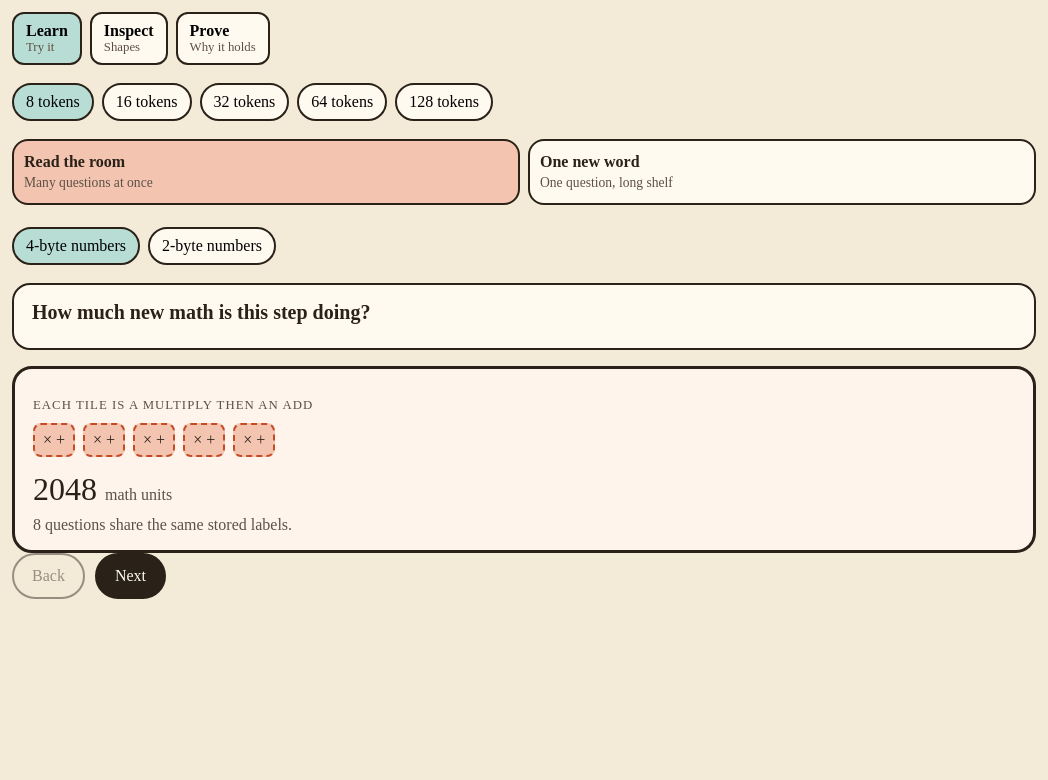
experiment 03 playground › updates math when dtype and job change
This screenshot has width=1048, height=780.
Check: the text "2048" is shown, box [33, 471, 97, 507]
Click the button "One new word One question, long shelf". click: [590, 162]
box: [528, 139, 1036, 205]
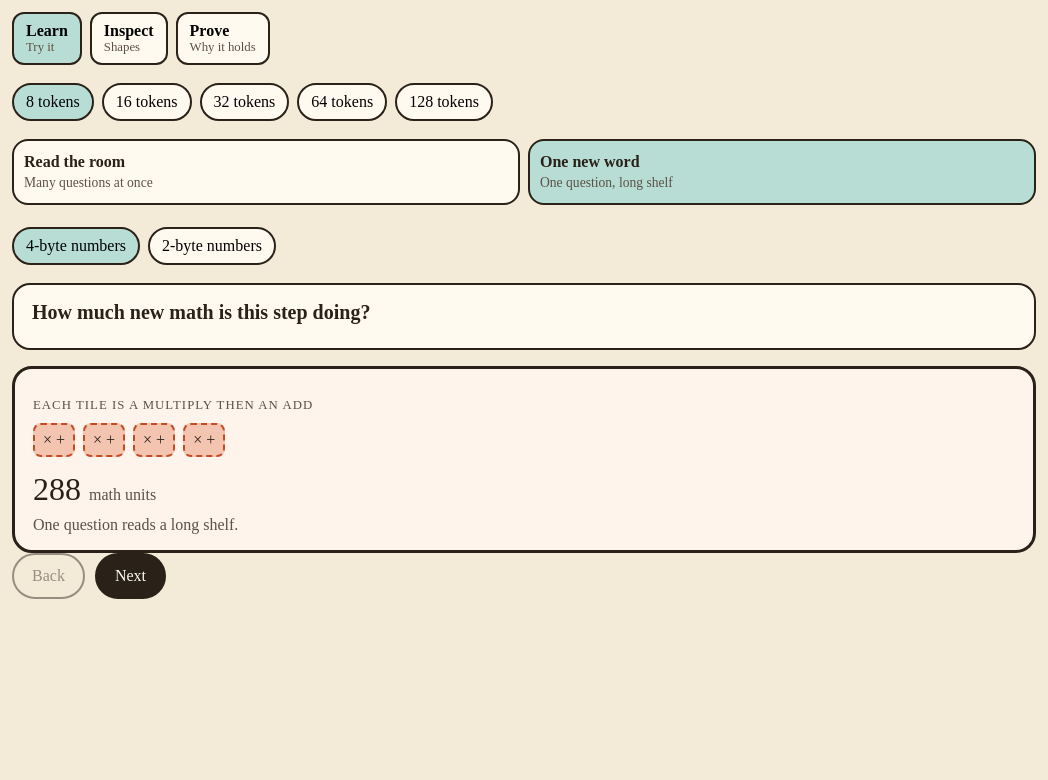
Check: the text "288" is shown, box [33, 471, 81, 507]
Click the button "2-byte numbers". click: [212, 246]
box: [148, 227, 276, 265]
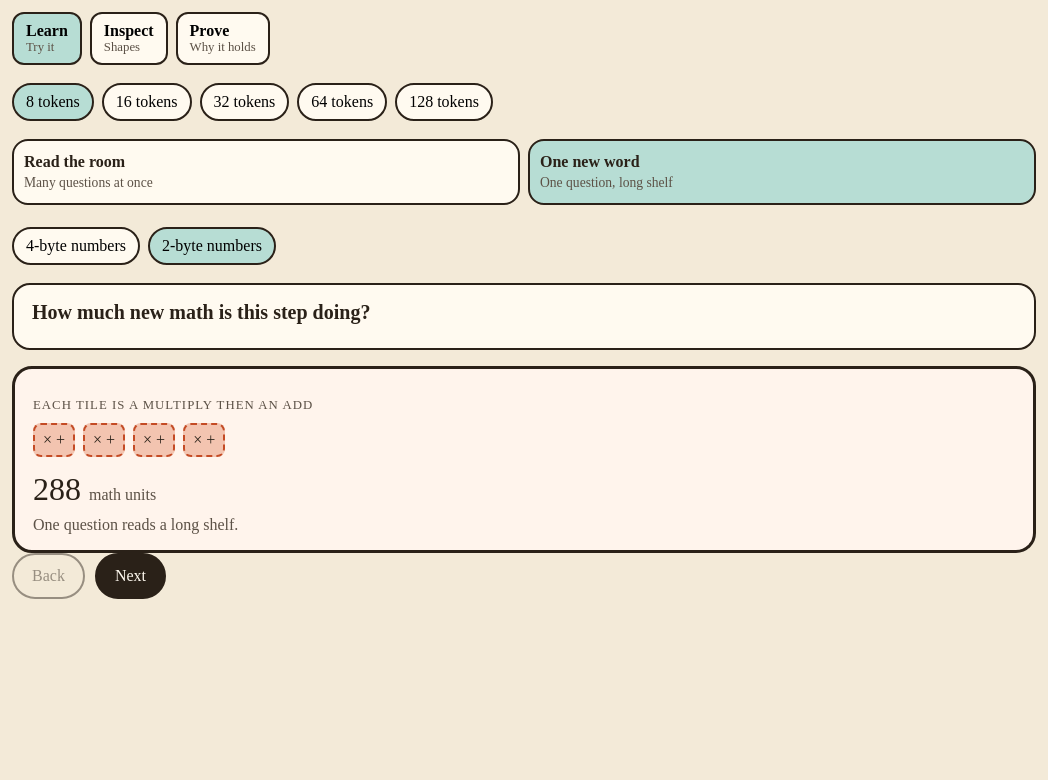
Click the button "Next". click: [130, 576]
box: [95, 553, 166, 599]
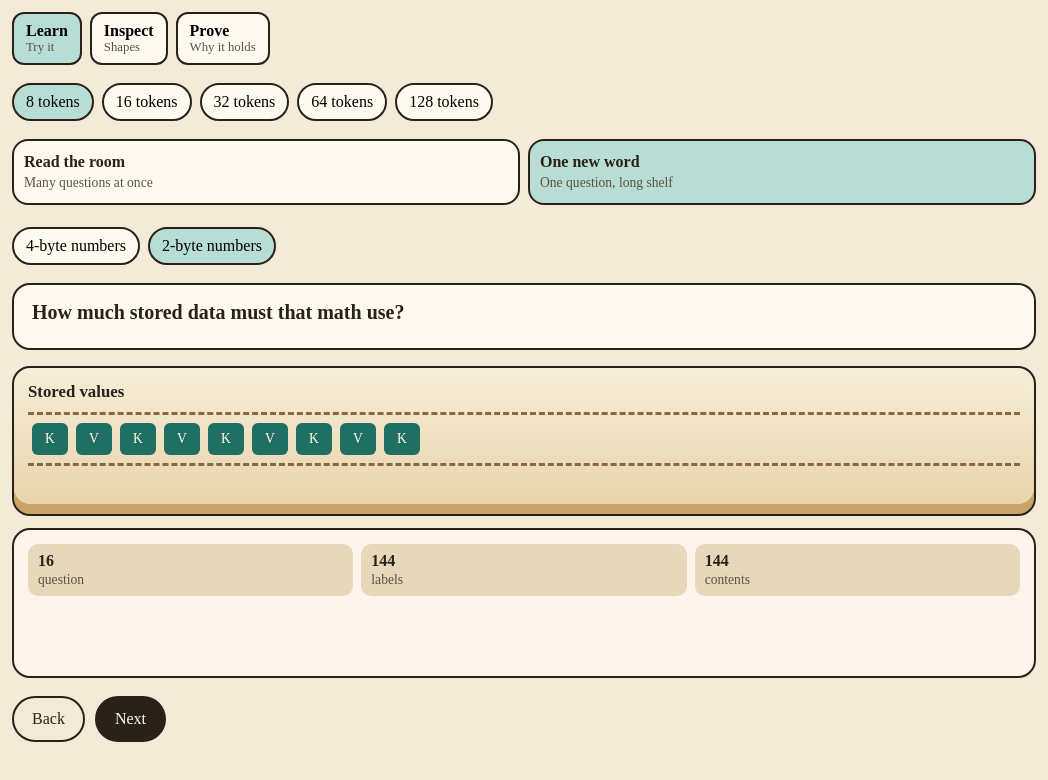
Check: the text "144" is shown 2 times, box [371, 552, 395, 569]; [705, 552, 729, 569]
